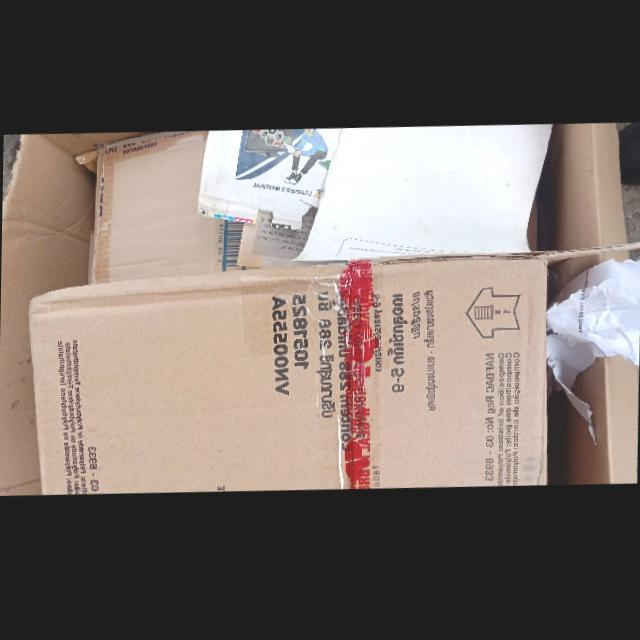paper: (27, 245, 640, 494), (290, 127, 554, 264), (546, 263, 640, 449), (198, 129, 341, 231)
